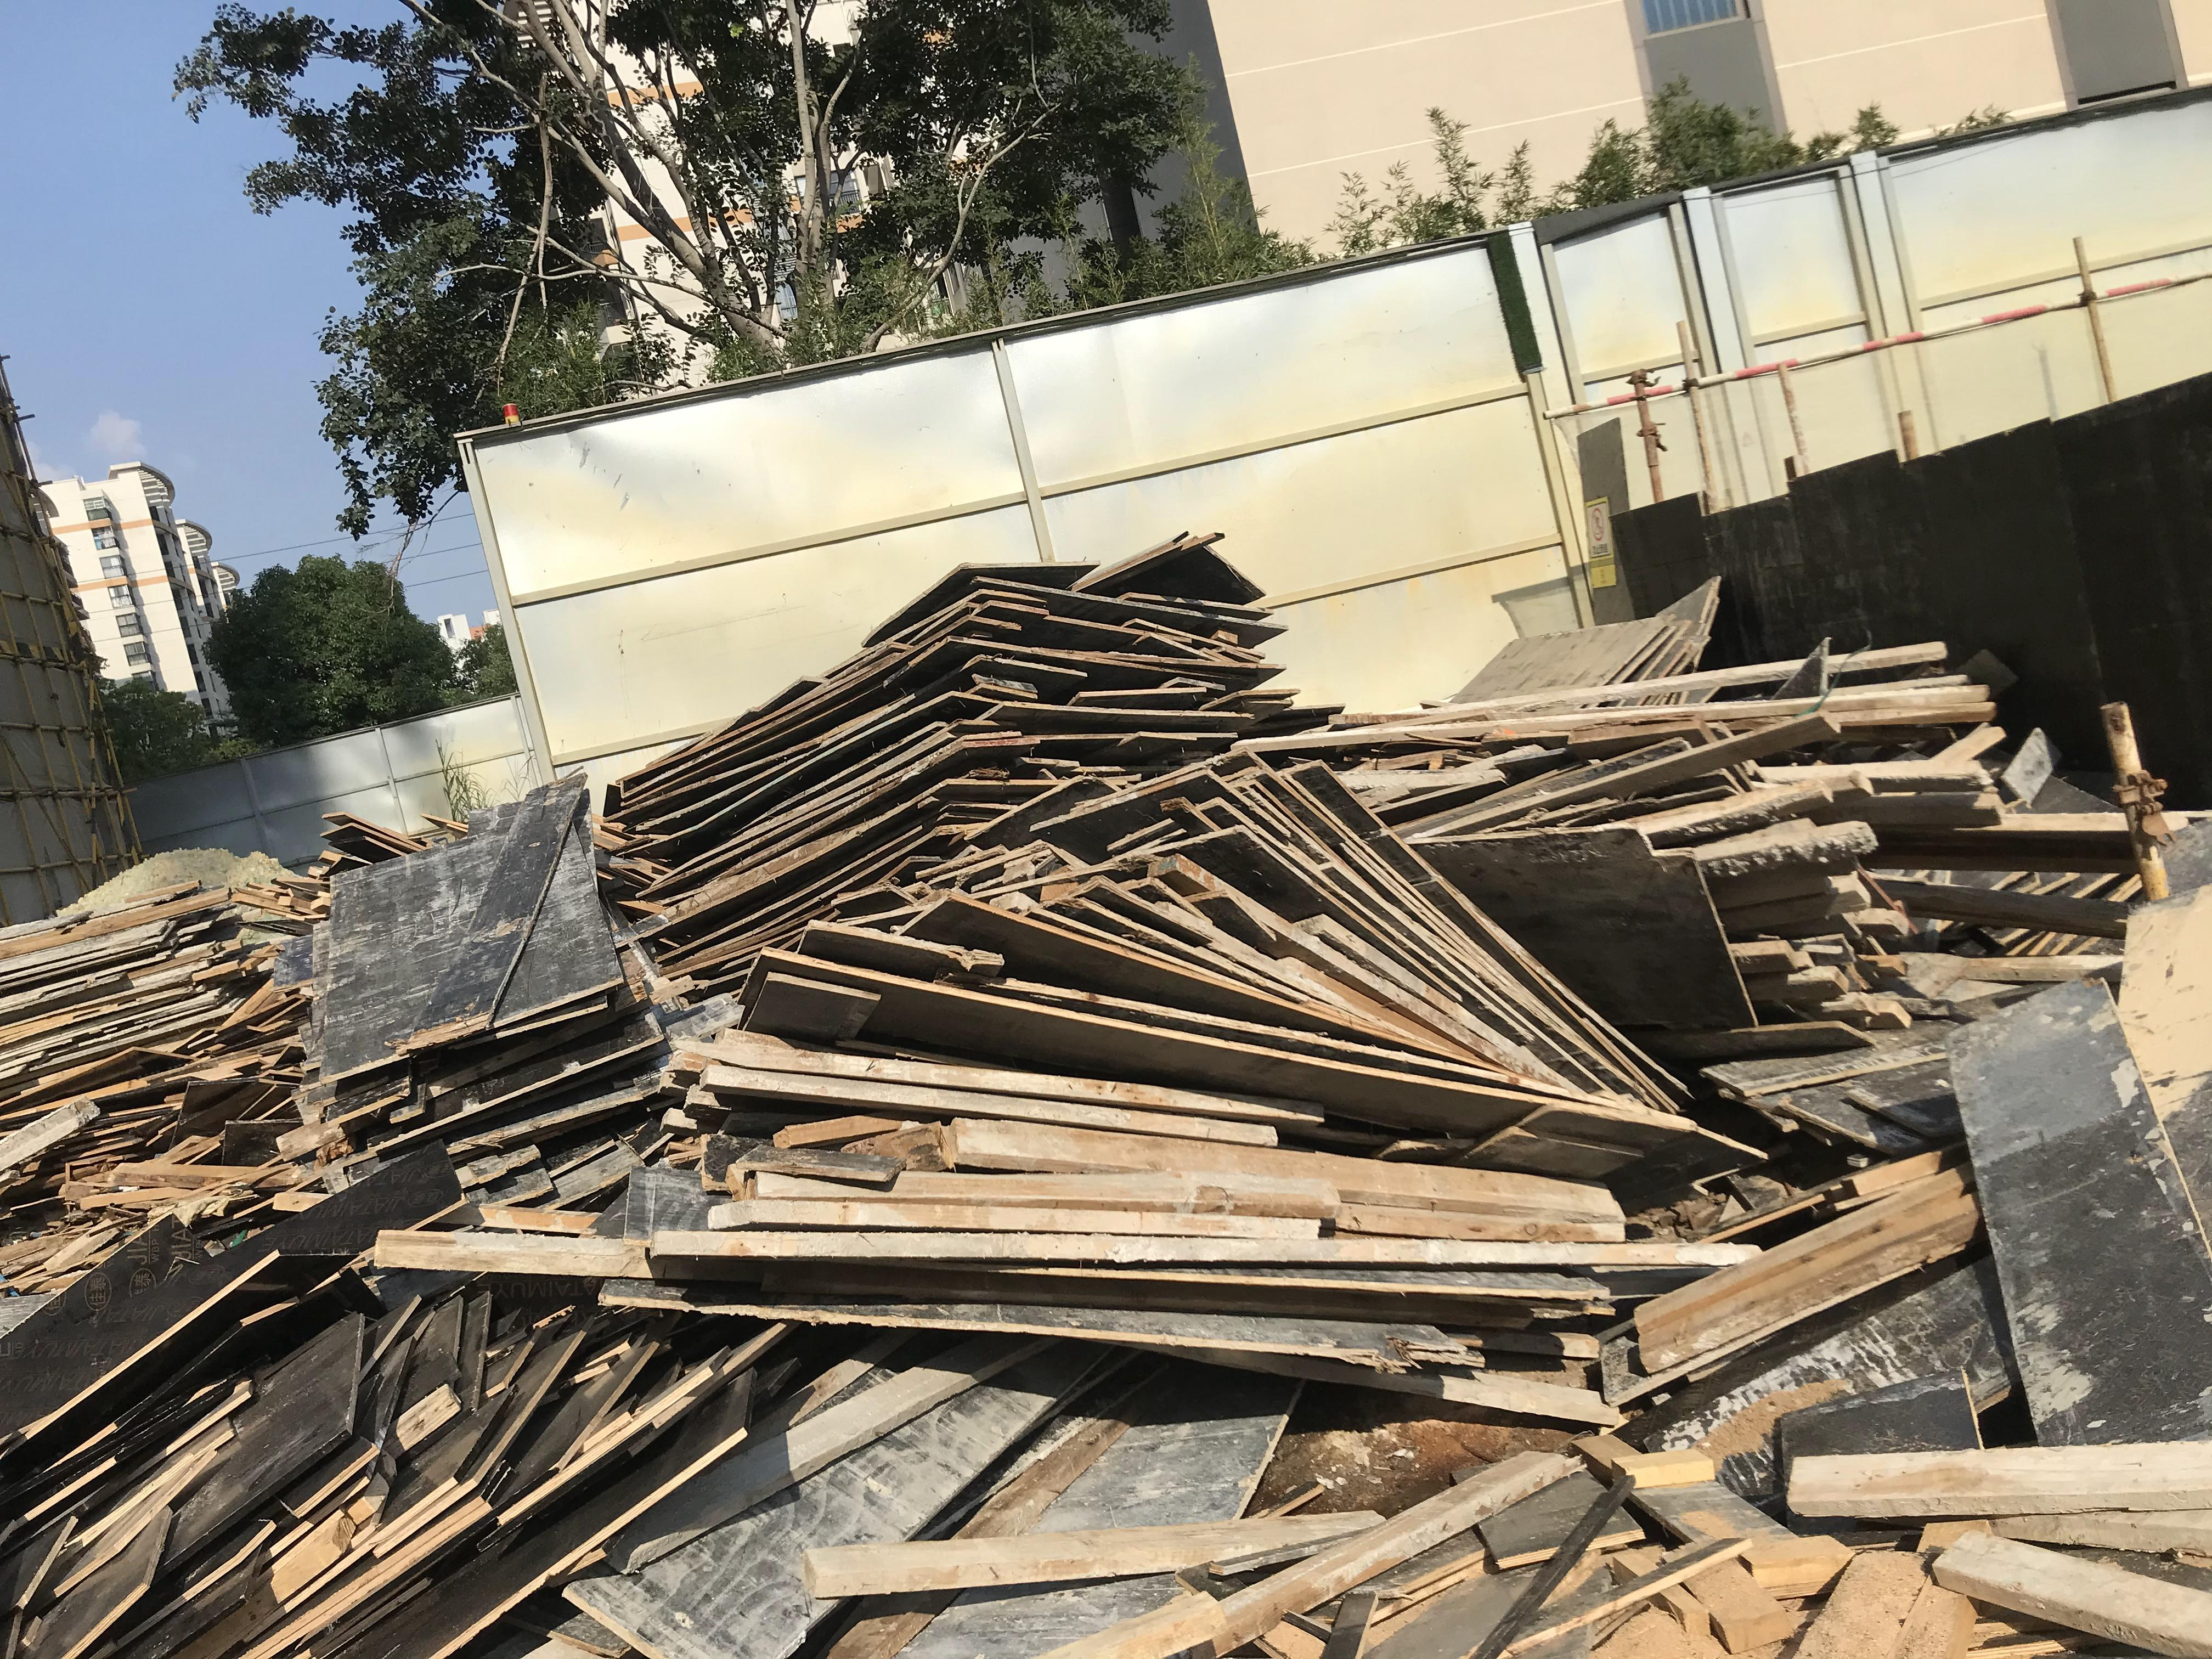board: (625, 528, 1268, 981), (291, 805, 693, 1197)
